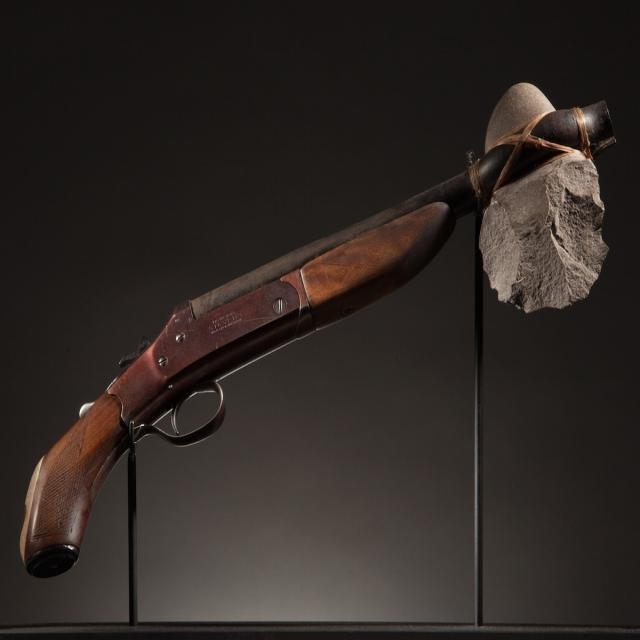ShotGun: (19, 103, 617, 582)
